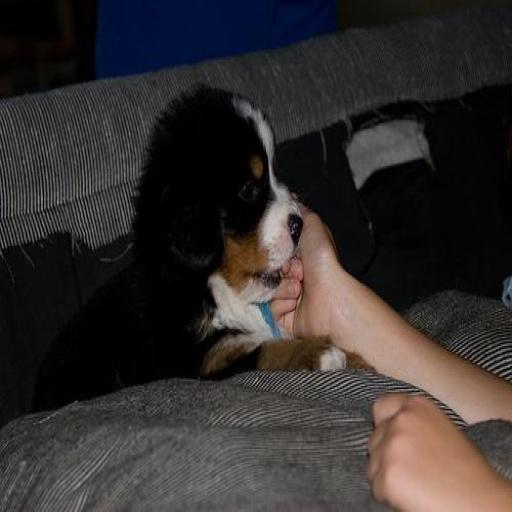dog_face: (148, 86, 305, 294)
